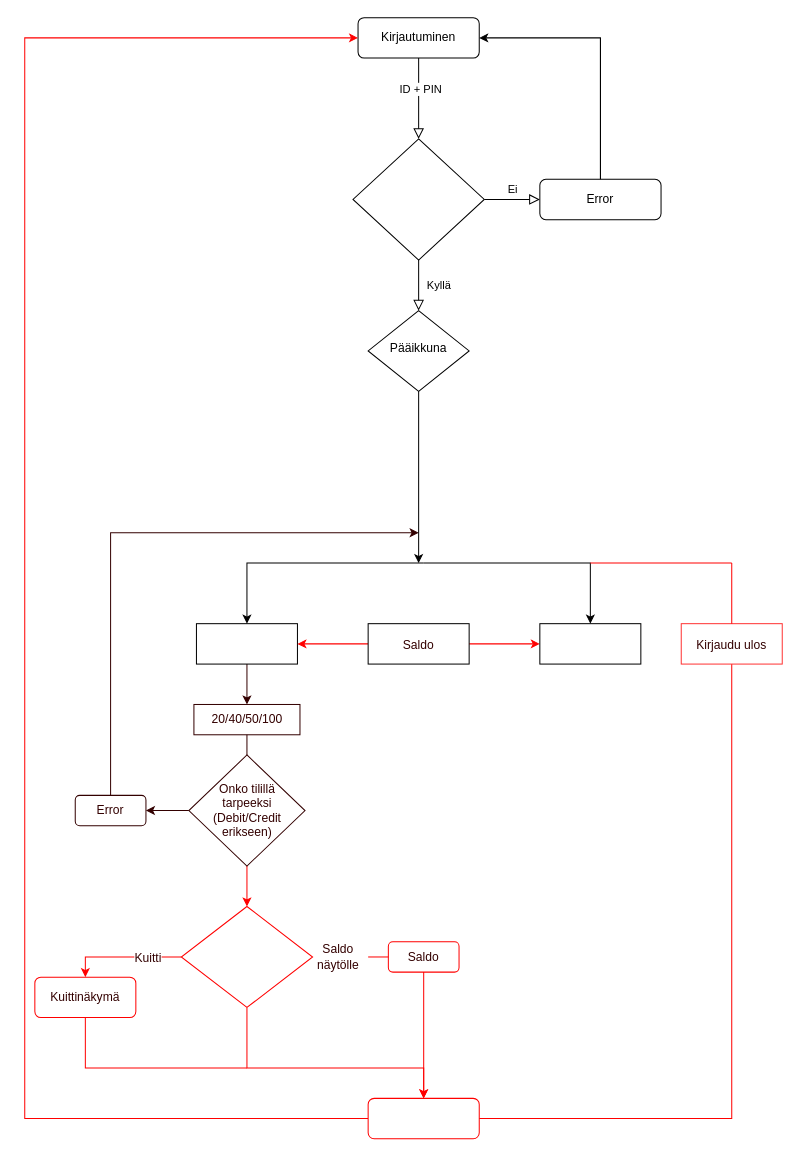
Some shapes in this 800 by 1156 pixel diagram are drawn without their labels. The box of each missing label's shape, as (x1, y1, x2, y2) in pixels:
Kuitti, Ei kuittia, Saldo näytölle: (180, 905, 313, 1007)
Nosto: (195, 623, 297, 664)
Onko annetut tiedot oikein?: (352, 138, 484, 260)
Tilitapahtumat: (539, 623, 641, 664)
Uloskirjautuminen: (367, 1097, 479, 1139)
